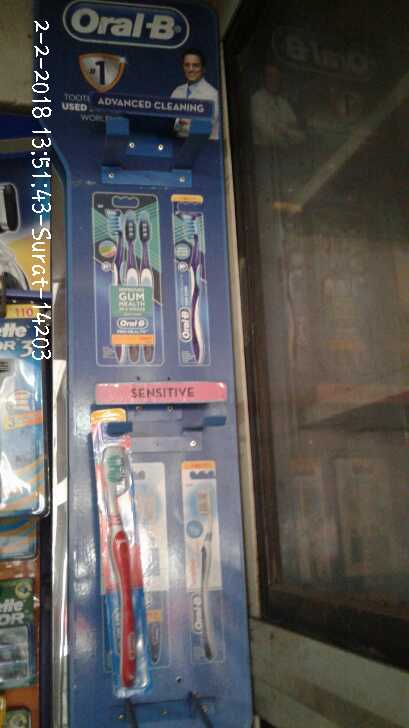oralb: (87, 425, 146, 688), (91, 188, 166, 362), (181, 457, 227, 662), (174, 193, 214, 366)
